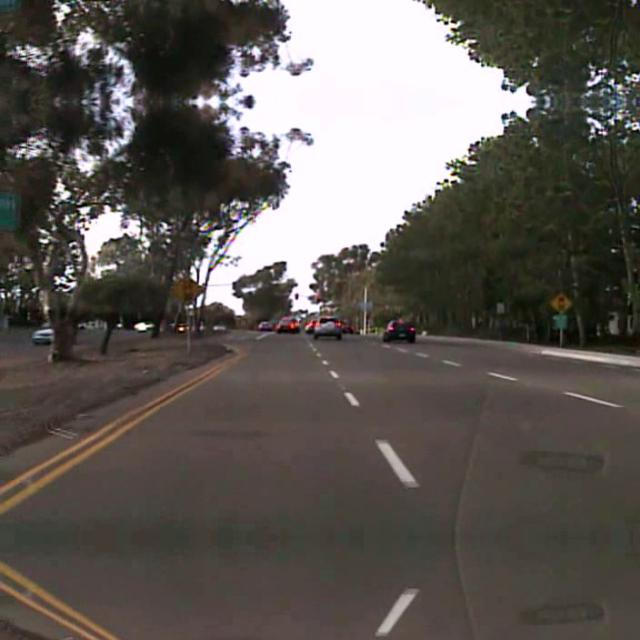signalAhead: (168, 272, 204, 302), (550, 290, 572, 312)
